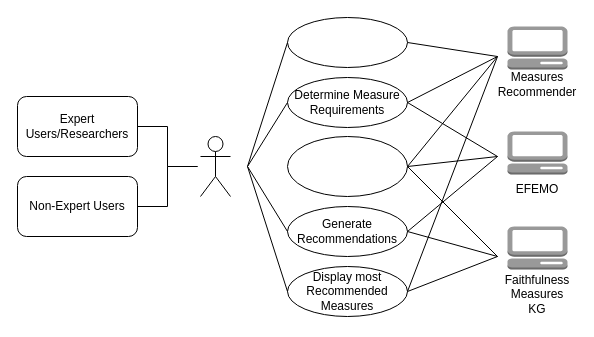
Image size: 594x337. Some labels were removed from this diagram. The shapes that lost their labels are listed below. From the top down, each one's centre as x and y in pixels, then its label:
[347,42]: Launch Application
[215,166]: Actor
[347,166]: Link Requirements to Ontology and KG
